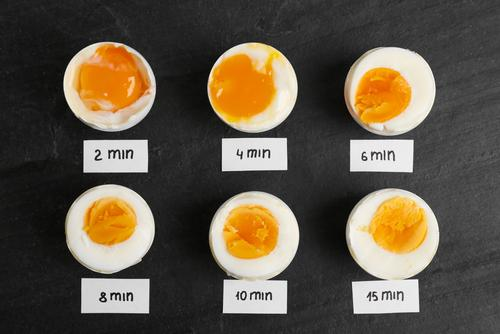telur: (69, 47, 146, 121), (357, 202, 426, 271), (358, 61, 427, 126), (70, 201, 149, 257), (222, 207, 287, 272), (218, 56, 282, 119)
